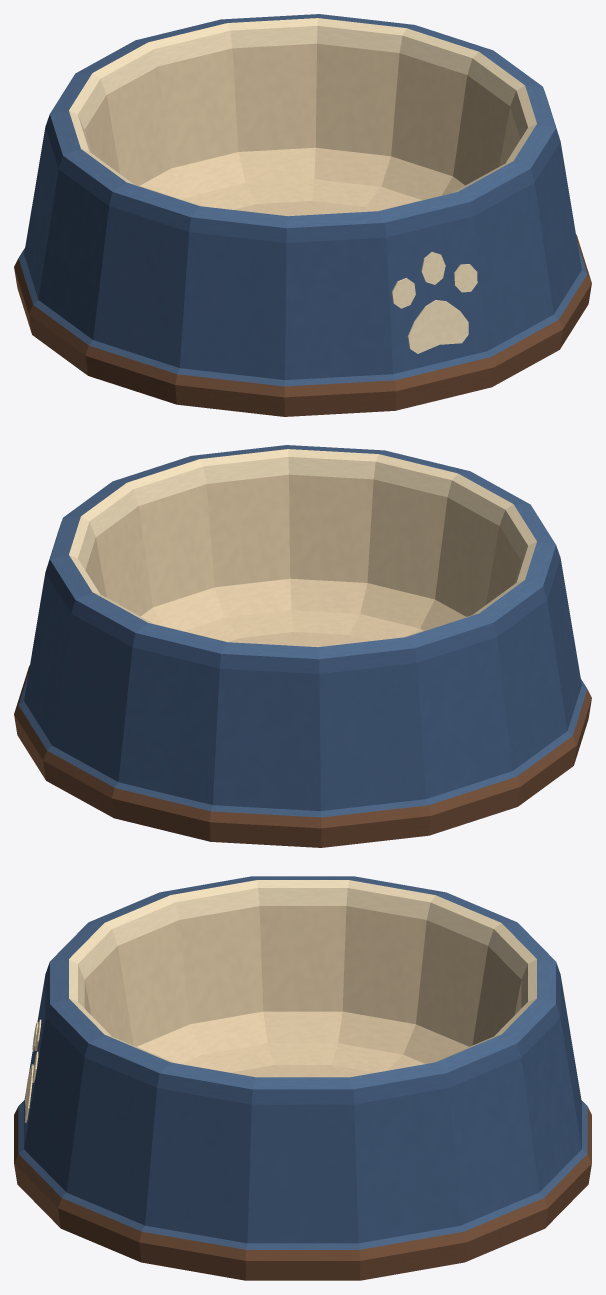
The model's file is 06_DogBowl.fbx.
The picture shows the model from 3 angles, top to bottom: view 1: azimuth 30°, elevation 25°; view 2: azimuth 150°, elevation 25°; view 3: azimuth 270°, elevation 25°; orthographic projection.
Parts seen in each view (by area): view 1: 06_DogBowl; view 2: 06_DogBowl; view 3: 06_DogBowl.
Boxes of the visible parts, x1,y1,x2,y2 form: 06_DogBowl: (14, 14, 591, 416); 06_DogBowl: (14, 445, 591, 847); 06_DogBowl: (14, 876, 591, 1280).
Bounding box in the file's own units: 51.6 × 18.55 × 51.76.
Materials: 1 (1 with a texture image).
